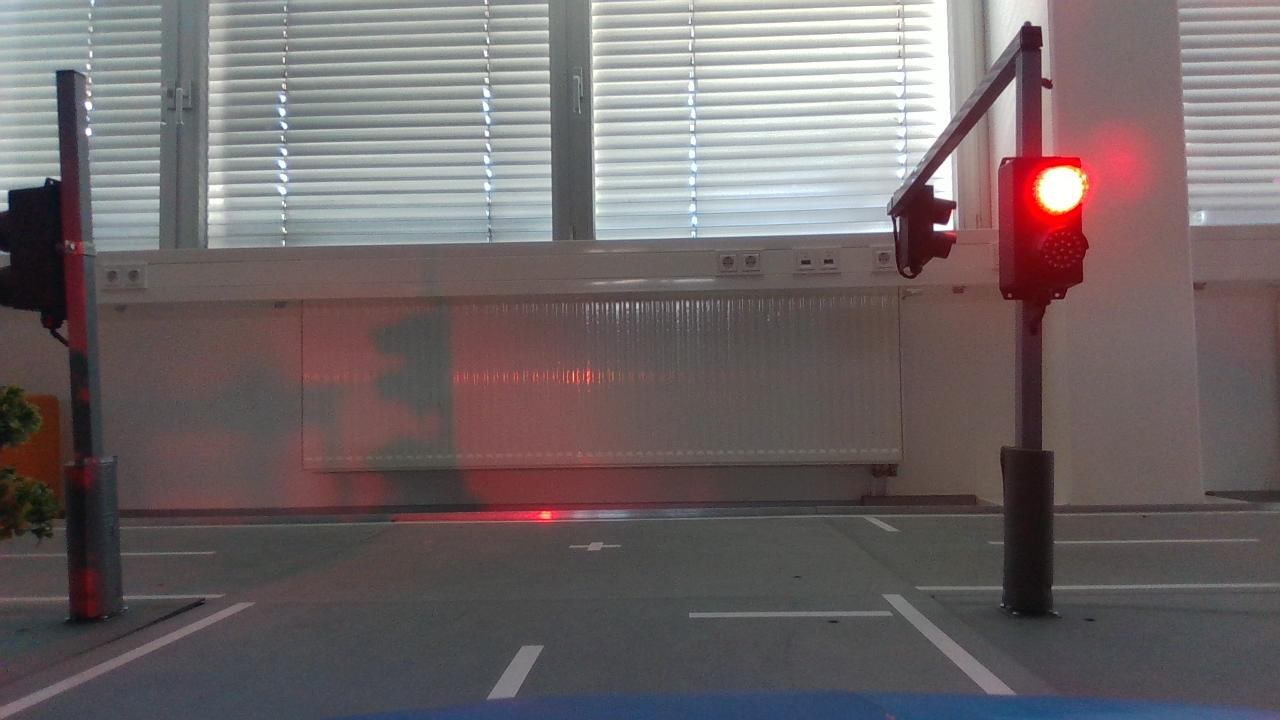traffic_light_red: (990, 139, 1115, 306)
